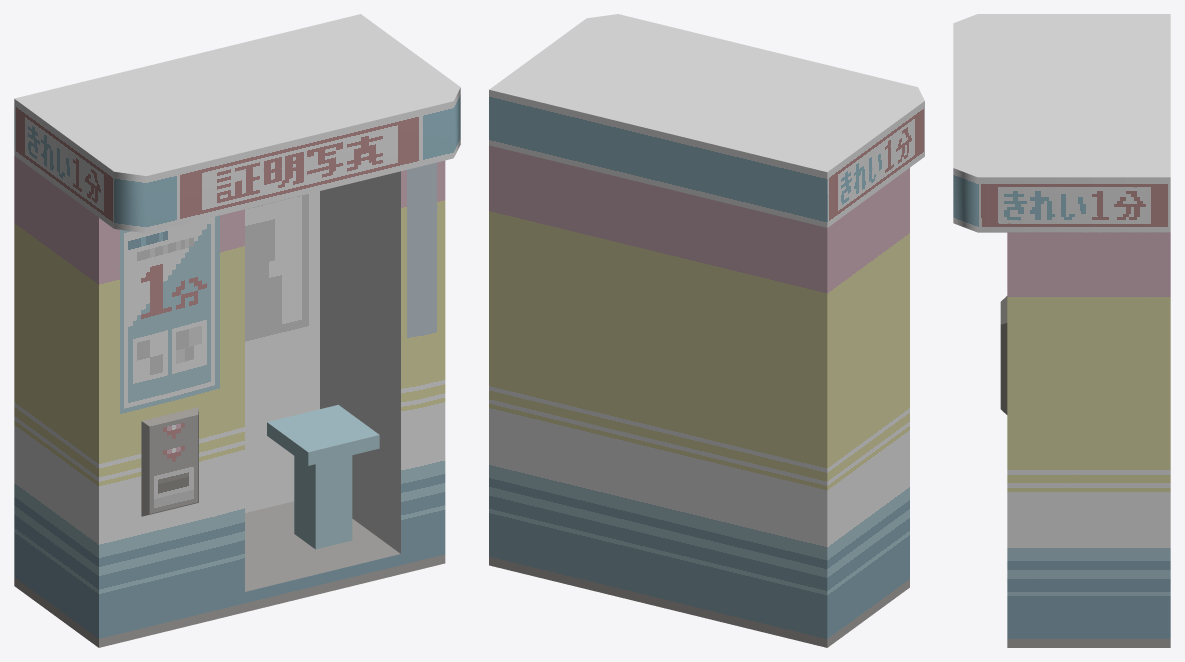
File: 0395_Photo_Booth.glb
3 renders of one model, left to right at view 1: azimuth 30°, elevation 25°; view 2: azimuth 150°, elevation 25°; view 3: azimuth 270°, elevation 25°, orthographic. The views are drawn at different scales.
Parts seen in each view (by area): view 1: part_0; view 2: part_0; view 3: part_0.
Boxes of the visible parts, <box> form: part_0: <box>14,14,460,647</box>; part_0: <box>489,14,924,647</box>; part_0: <box>953,14,1170,647</box>.
Size of the model in its own units: 1.6 by 2.15 by 0.9.
1 material, 1 textured.
